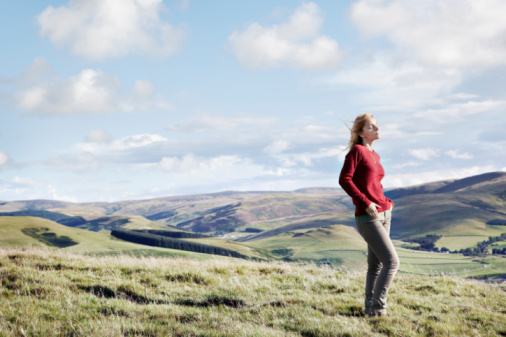em pe: (334, 97, 396, 324)
